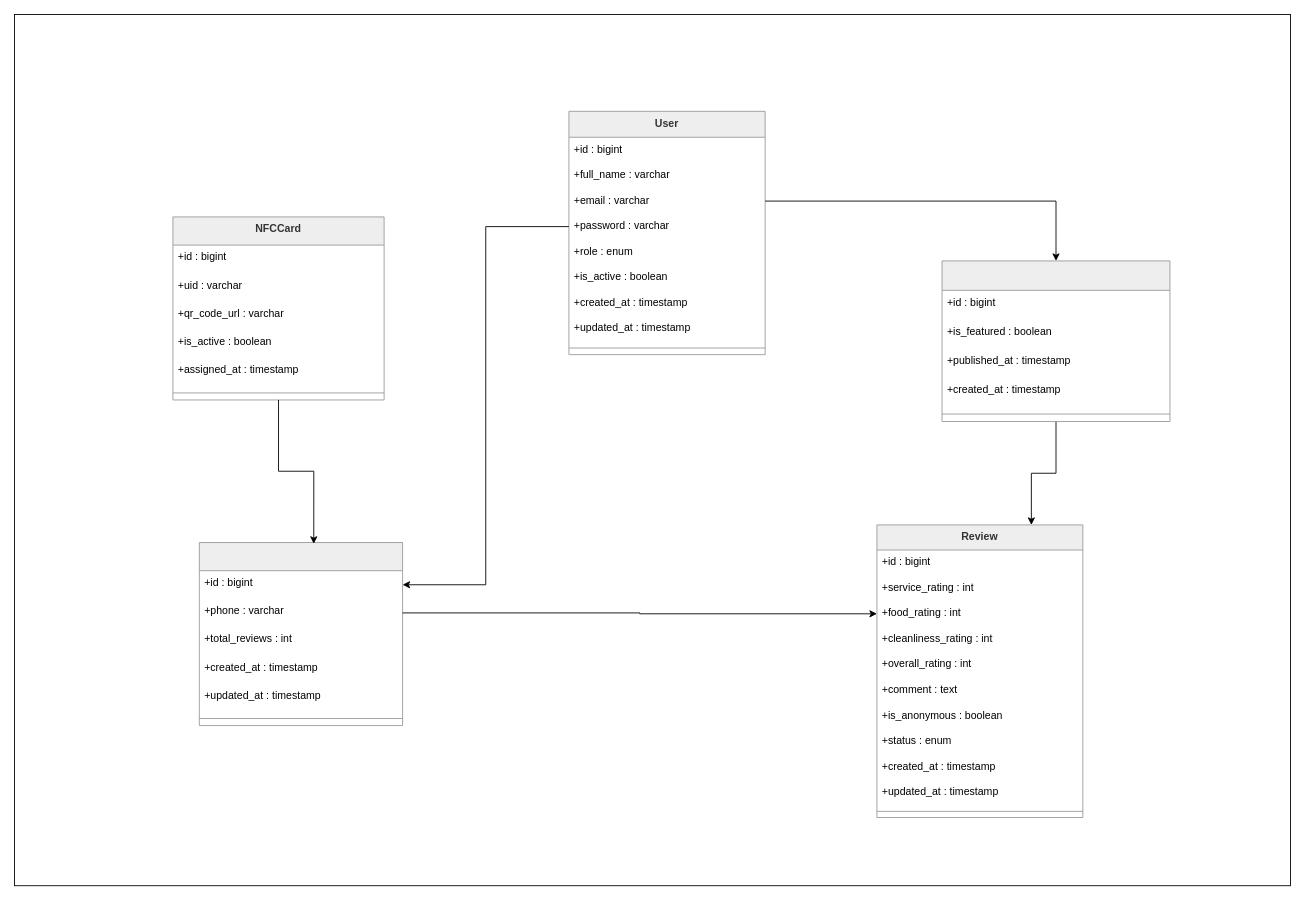
This 1305x900 diagram has some shape labels left out. Here are the shapes that lost their labels. From the top down, the box of each, then its label:
(941, 260, 1170, 422): Testimonial
(198, 542, 403, 726): Server
